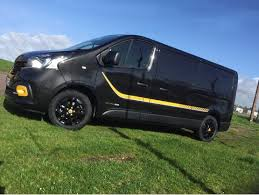car: (5, 32, 236, 140)
